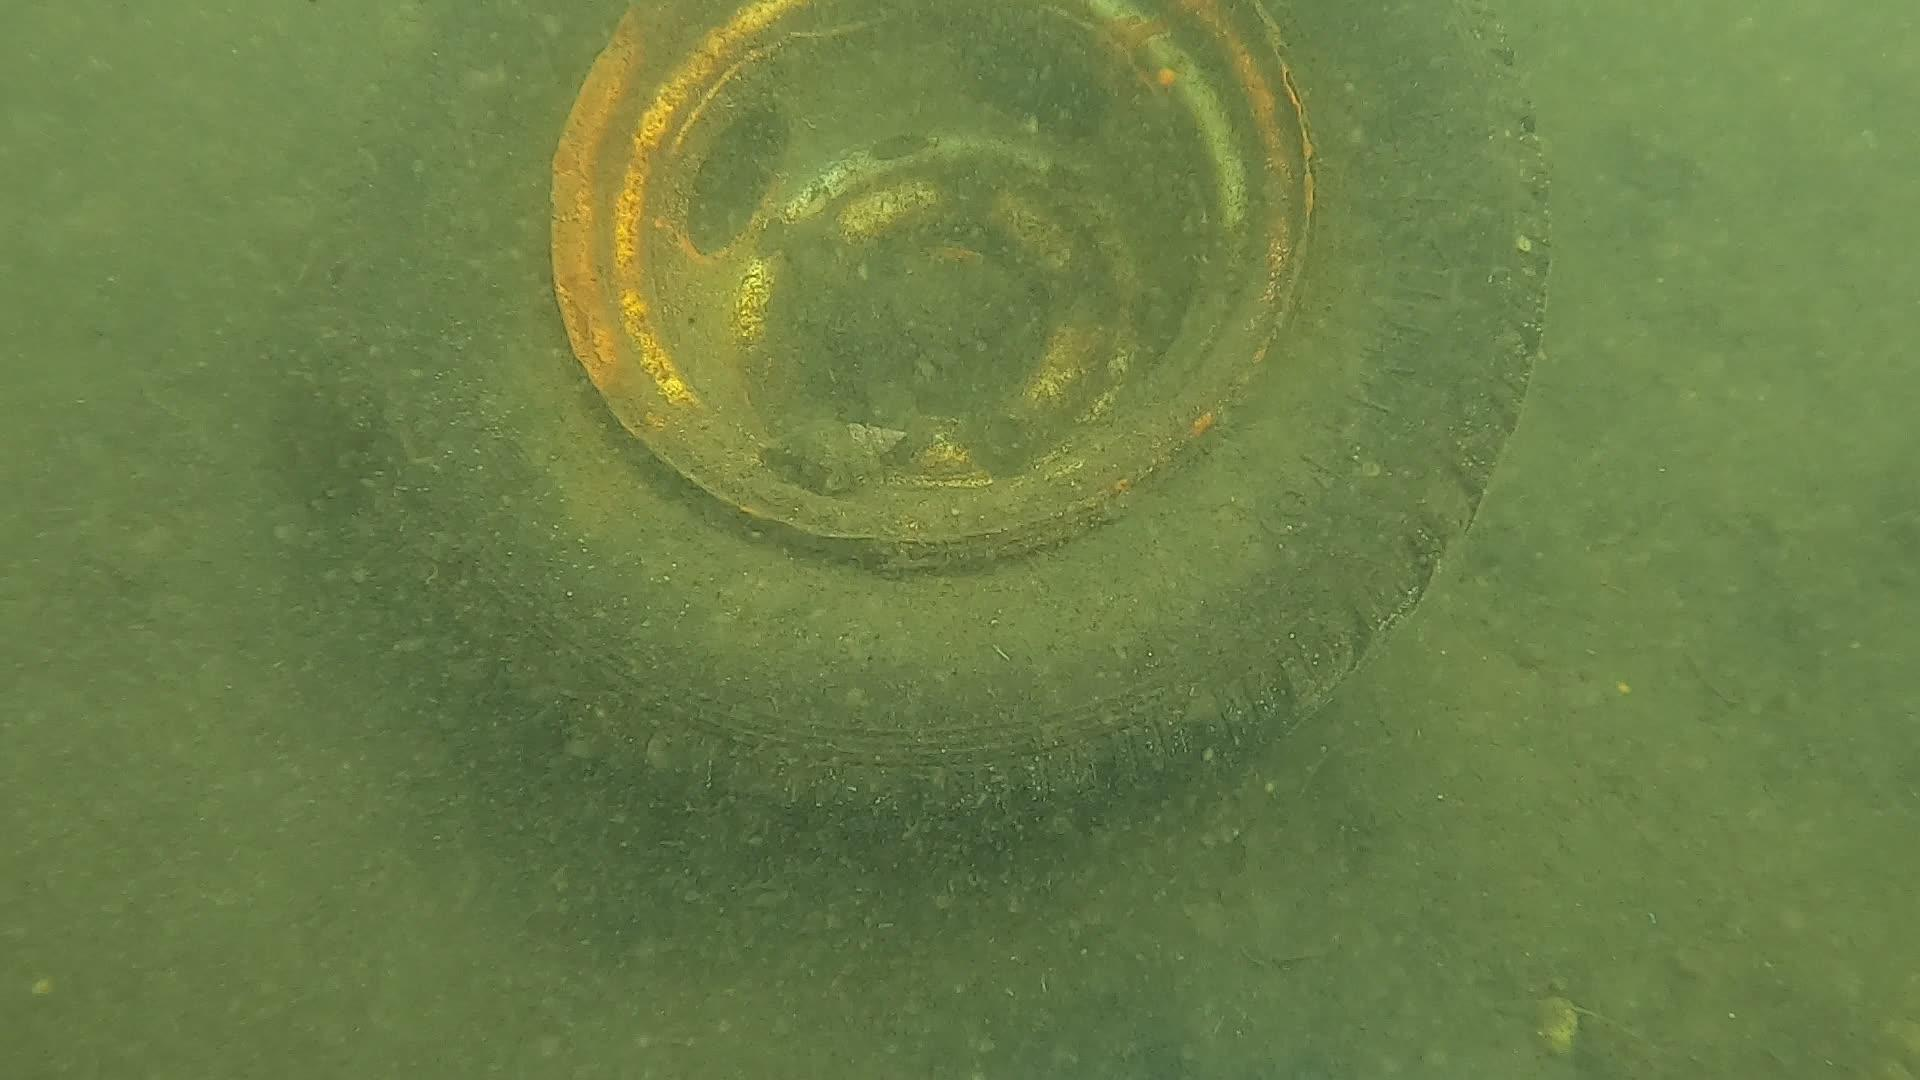tire: (314, 0, 1551, 848)
